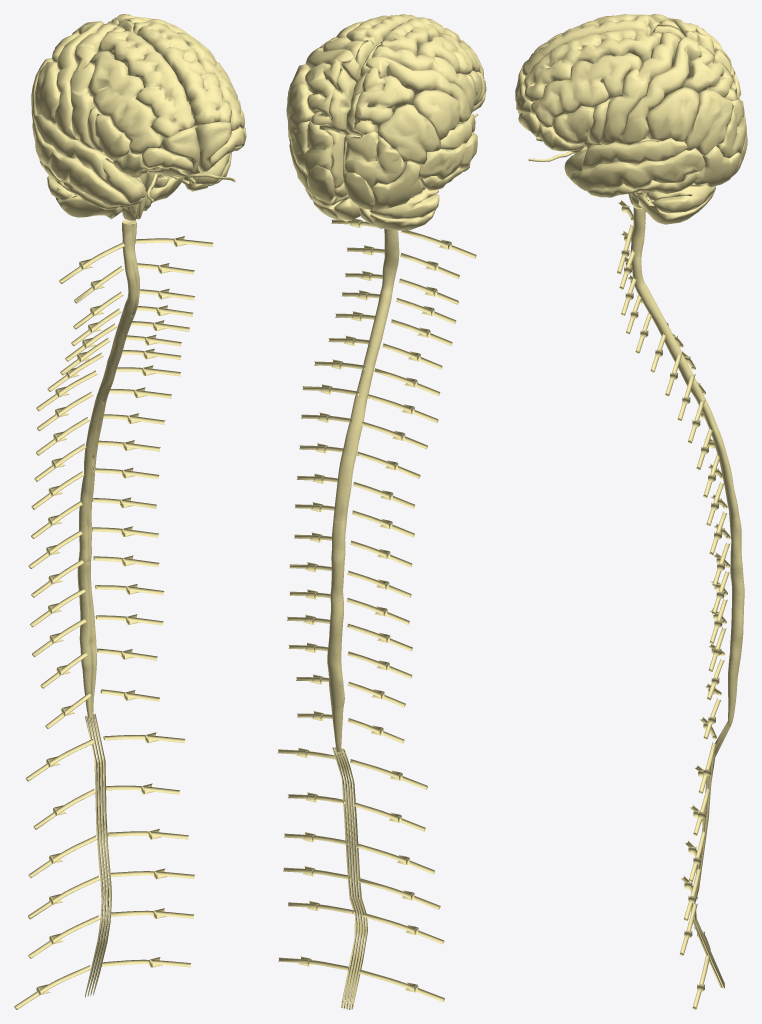
Rendered from cuerpo-f-nervio.glb.
The picture shows the model from 3 angles, left to right: view 1: azimuth 30°, elevation 25°; view 2: azimuth 150°, elevation 25°; view 3: azimuth 270°, elevation 25°; orthographic projection. The views are drawn at different scales.
Visible parts, largest first — view 1: circunvolucion_frontal_superior_izquierda, circunvolucion_frontal_media_izquierda, circunvolucion_frontal_superior_derecha, cola_de_caballo_ilustracion, circunvolucion_precentral_izquierda_motora, circunvolucion_temporal_media_izquierda, circunvolucion_poscentral_izquierda_sensitiva, circunvolucion_temporal_superior_izquierda, circunvolucion_frontal_media_derecha, circunvolucion_supramarginal_izquierda, circunvolucion_rostral_derecha, hemisferio_del_cerebelo_izquierdo (+5 smaller); view 2: cola_de_caballo_ilustracion, lobulillo_parietal_superior_izquierdo, circunvolucion_angular_izquierda, circunvolucion_occipital_superior_izquierda, circunvolucion_poscentral_izquierda_sensitiva, hemisferio_del_cerebelo_izquierdo, circunvolucion_occipital_superior_derecha, circunvolucion_precentral_izquierda_motora, lobulillo_parietal_superior_derecho, circunvolucion_frontal_media_izquierda, circunvolucion_supramarginal_izquierda, circunvolucion_frontal_superior_izquierda (+13 smaller); view 3: circunvolucion_frontal_media_derecha, circunvolucion_frontal_superior_derecha, circunvolucion_temporal_media_derecha, circunvolucion_precentral_derecha_motora, circunvolucion_poscentral_derecha_sensitiva, circunvolucion_supramarginal_derecha, circunvolucion_angular_derecha, circunvolucion_temporal_superior_derecha, hemisferio_del_cerebelo_derecho, circunvolucion_frontal_superior_izquierda, lobulillo_parietal_superior_derecho, cola_de_caballo_ilustracion (+6 smaller).
Boxes of the visible parts, x1,y1,x2,y2 form: circunvolucion_frontal_superior_izquierda: [97, 27, 194, 138]; circunvolucion_frontal_media_izquierda: [88, 51, 162, 154]; circunvolucion_frontal_superior_derecha: [133, 21, 231, 126]; cola_de_caballo_ilustracion: [85, 713, 112, 997]; circunvolucion_precentral_izquierda_motora: [70, 23, 117, 149]; circunvolucion_temporal_media_izquierda: [32, 122, 129, 207]; circunvolucion_poscentral_izquierda_sensitiva: [55, 21, 104, 139]; circunvolucion_temporal_superior_izquierda: [35, 115, 111, 184]; circunvolucion_frontal_media_derecha: [177, 32, 244, 130]; circunvolucion_supramarginal_izquierda: [34, 61, 60, 123]; circunvolucion_rostral_derecha: [195, 121, 231, 173]; hemisferio_del_cerebelo_izquierdo: [47, 175, 115, 217]; cola_de_caballo_ilustracion: [332, 747, 367, 1009]; lobulillo_parietal_superior_izquierdo: [353, 67, 414, 134]; circunvolucion_angular_izquierda: [377, 104, 440, 164]; circunvolucion_occipital_superior_izquierda: [345, 131, 407, 188]; circunvolucion_poscentral_izquierda_sensitiva: [365, 56, 471, 122]; hemisferio_del_cerebelo_izquierdo: [370, 188, 439, 230]; circunvolucion_occipital_superior_derecha: [291, 119, 333, 174]; circunvolucion_precentral_izquierda_motora: [371, 44, 474, 113]; lobulillo_parietal_superior_derecho: [305, 60, 341, 125]; circunvolucion_frontal_media_izquierda: [417, 33, 484, 78]; circunvolucion_supramarginal_izquierda: [411, 90, 459, 140]; circunvolucion_frontal_superior_izquierda: [380, 17, 463, 56]; circunvolucion_frontal_media_derecha: [530, 53, 642, 127]; circunvolucion_frontal_superior_derecha: [523, 29, 661, 102]; circunvolucion_temporal_media_derecha: [570, 148, 705, 190]; circunvolucion_precentral_derecha_motora: [599, 32, 681, 144]; circunvolucion_poscentral_derecha_sensitiva: [616, 37, 701, 144]; circunvolucion_supramarginal_derecha: [645, 87, 699, 141]; circunvolucion_angular_derecha: [685, 89, 733, 155]; circunvolucion_temporal_superior_derecha: [582, 138, 687, 170]; hemisferio_del_cerebelo_derecho: [635, 185, 715, 224]; circunvolucion_frontal_superior_izquierda: [522, 14, 660, 75]; lobulillo_parietal_superior_derecho: [681, 44, 737, 100]; cola_de_caballo_ilustracion: [691, 720, 731, 988].
Bounding box in the file's own units: 0.1415 × 0.7641 × 0.1667.
